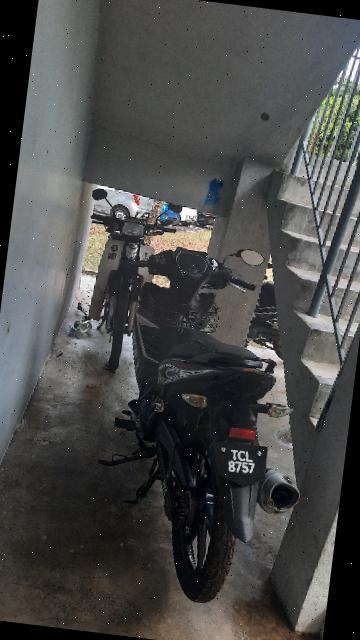License_Plate: (199, 426, 283, 499)
motorcycle: (79, 226, 327, 611), (56, 176, 202, 385)
